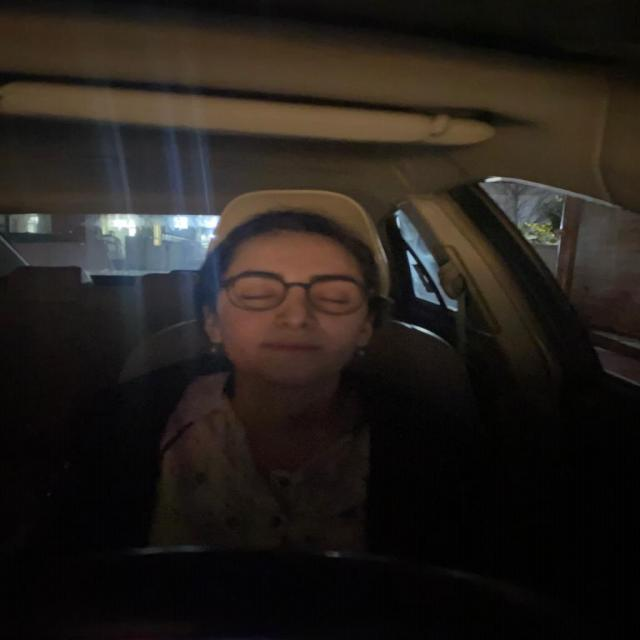drowsy: (192, 214, 383, 389)
